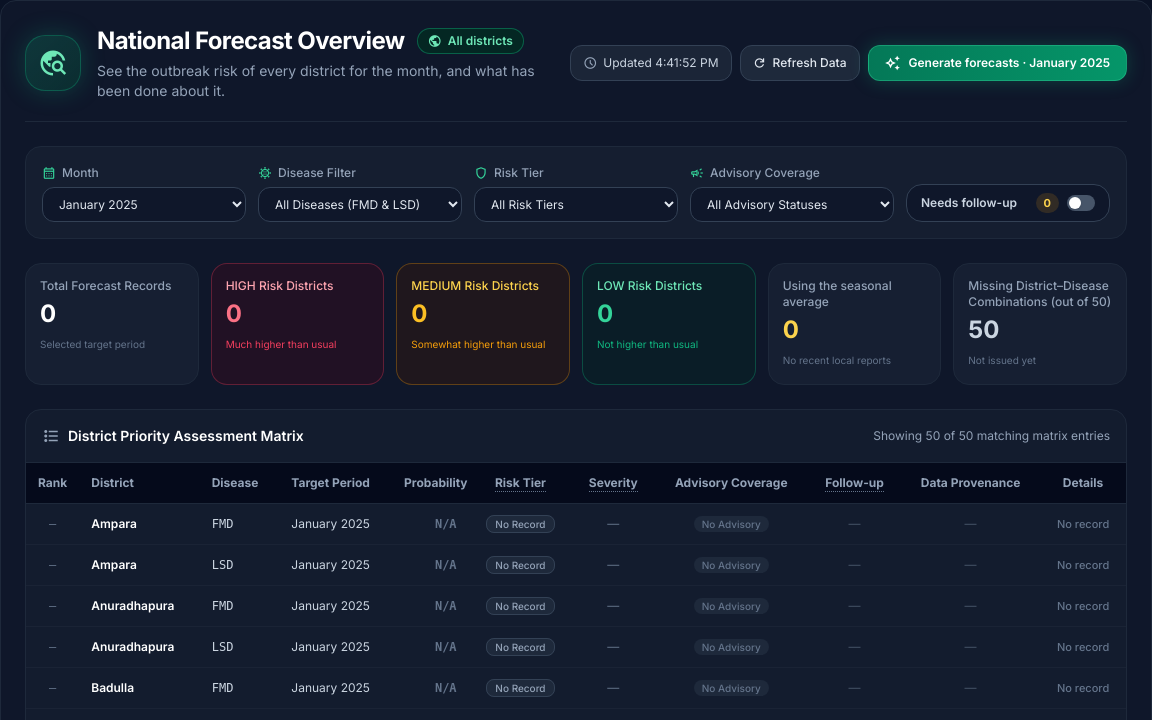
Test: DaphNationalForecastOverview Component › Matrix Empty-State Counting Contract › selecting FMD results in 25 matrix combinations when no records exist
Expected: the heading "District Priority Assessment Matrix" is shown, [68,426,304,446]
Select "Foot-and-Mouth Disease (FMD)" in the dropdown labelled "Disease Filter" at (360, 204), box [258,187,462,222]
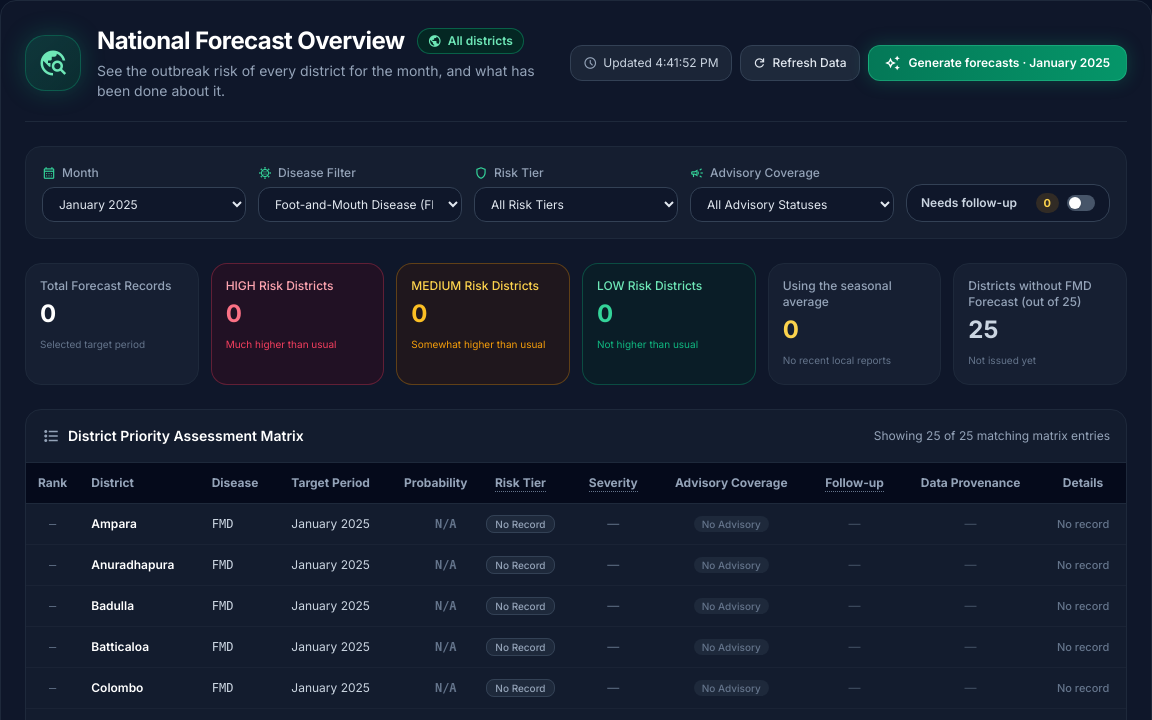
Now the text "25" is shown, box [968,315,998,344]
Now the text "Showing 25 of 25 matching matrix entries" is shown, box [874,428,1110,444]
